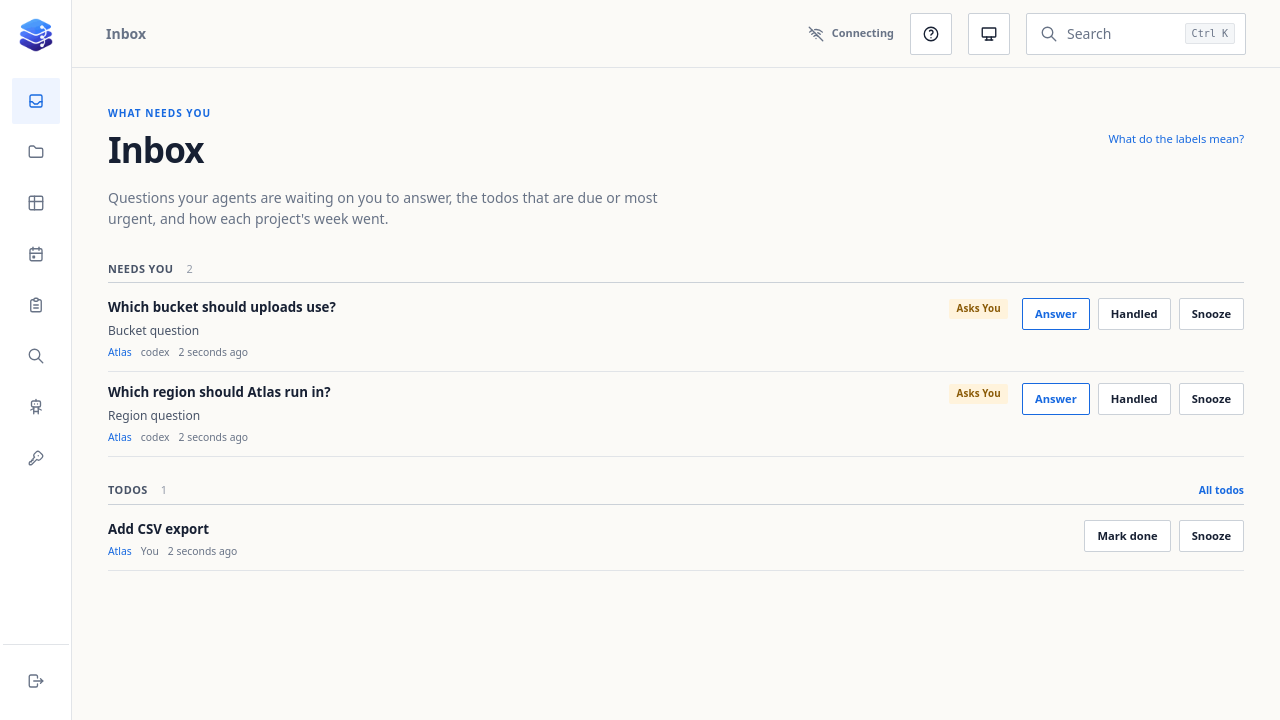
Scenario: inbox actions › moves focus to the next row when the one you acted on leaves the list
The width and height of the screenshot is (1280, 720).
Click the button "Handled" in the row of "Bucket question".
click(1134, 314)  # box [1098,298,1171,330]
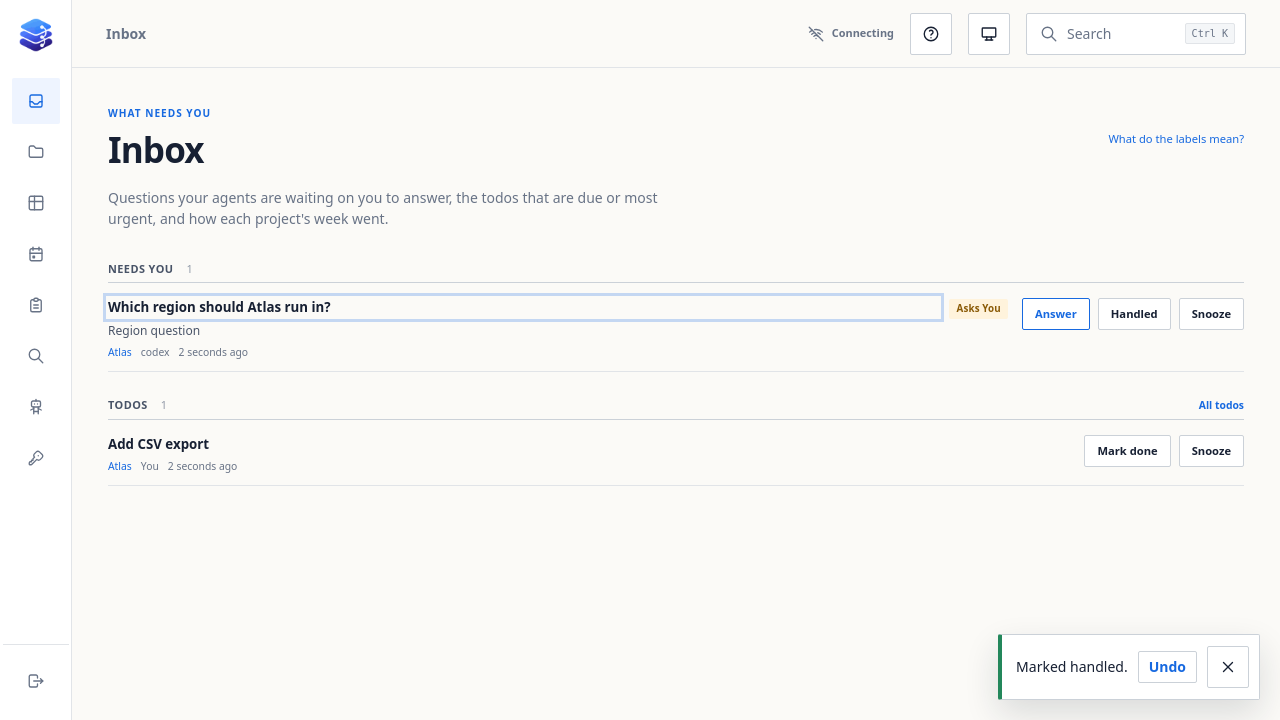
Check: the button "Which bucket should uploads use?" is gone
